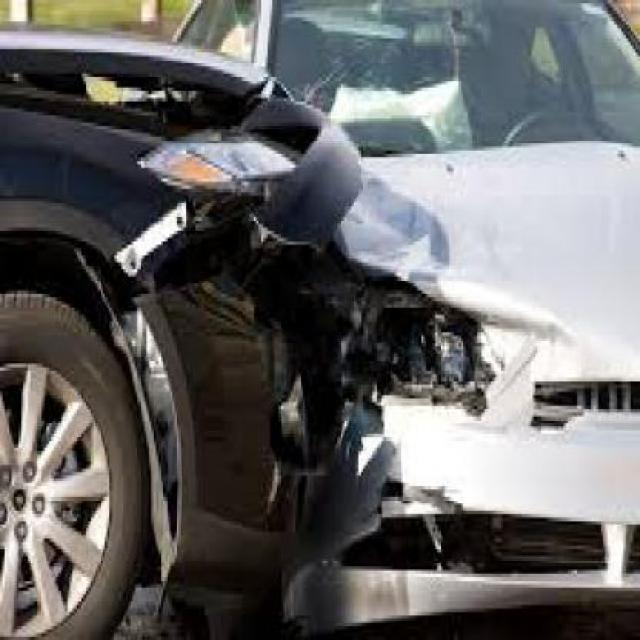damaged-front-bumper: (334, 385, 638, 633), (105, 251, 292, 564)
